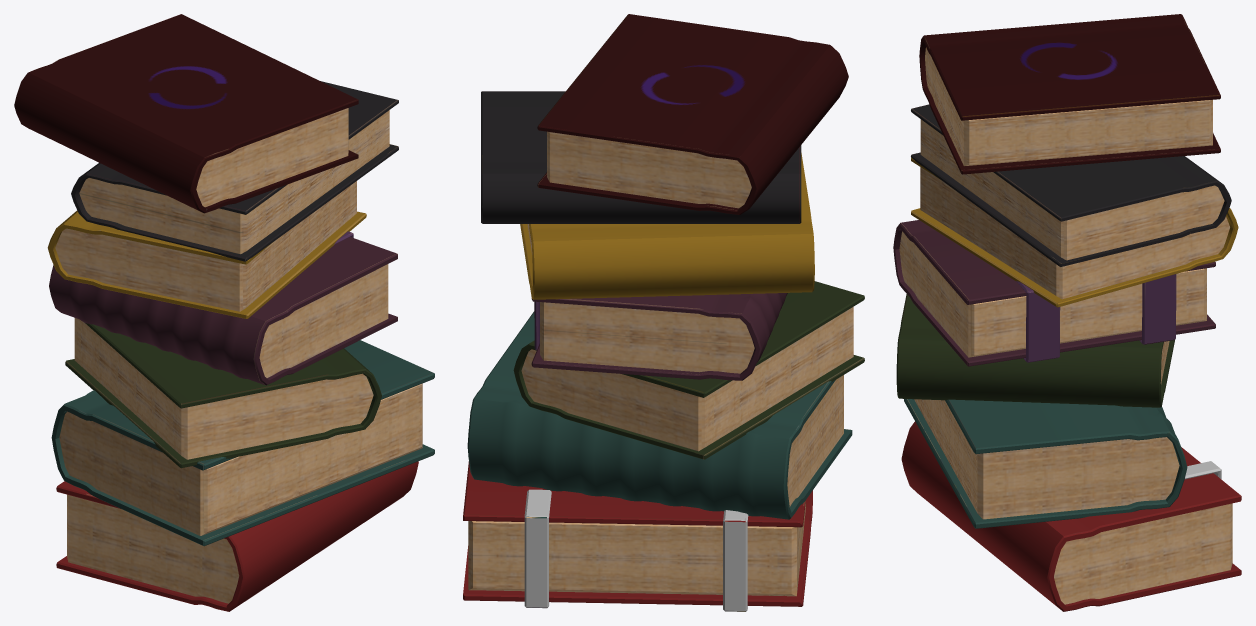
File: 3DArt_Props_StackOfBooks_Model_Amanda_03.fbx
3 renders of one model, left to right at view 1: azimuth 30°, elevation 25°; view 2: azimuth 150°, elevation 25°; view 3: azimuth 270°, elevation 25°, orthographic. The views are drawn at different scales.
Parts seen in each view (by area): view 1: 3DArt_Props_StackOfBooks_Model_Amanda_V2; view 2: 3DArt_Props_StackOfBooks_Model_Amanda_V2; view 3: 3DArt_Props_StackOfBooks_Model_Amanda_V2.
Boxes of the visible parts, <box> form: 3DArt_Props_StackOfBooks_Model_Amanda_V2: <box>14,14,434,611</box>; 3DArt_Props_StackOfBooks_Model_Amanda_V2: <box>463,14,864,611</box>; 3DArt_Props_StackOfBooks_Model_Amanda_V2: <box>893,14,1241,611</box>.
Size of the model in its own units: 29.76 by 37.9 by 26.31.
